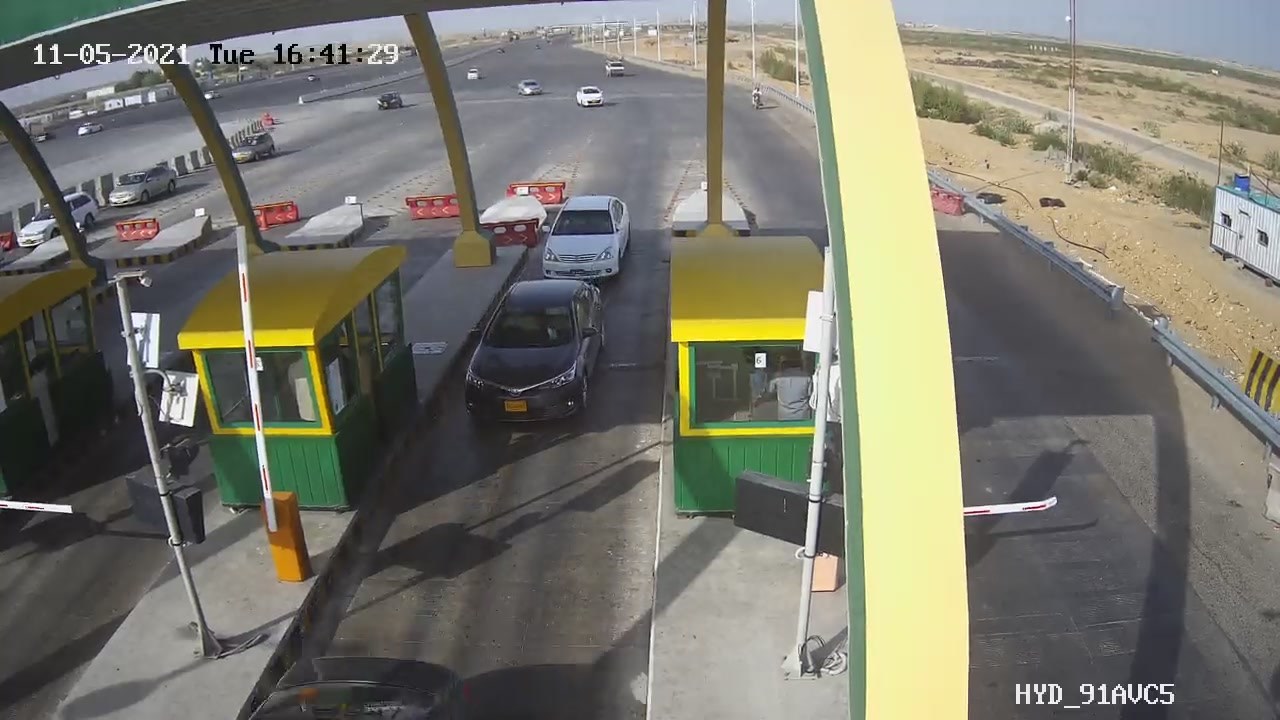F1: (444, 262, 629, 455), (523, 182, 650, 301)
